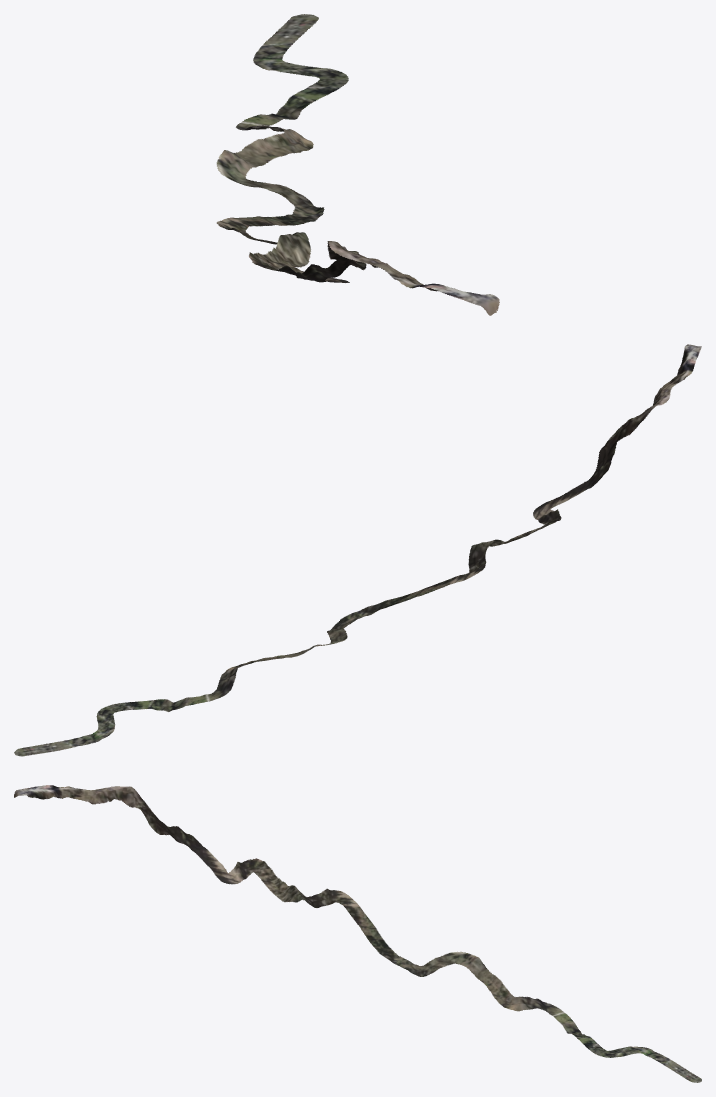
Rendered from corridor-v3-mobile.glb.
The picture shows the model from 3 angles, top to bottom: view 1: azimuth 30°, elevation 25°; view 2: azimuth 150°, elevation 25°; view 3: azimuth 270°, elevation 25°; orthographic projection. The views are drawn at different scales.
Parts seen in each view (by area): view 1: V3 / ruts berms takeoffs / mobile; view 2: V3 / ruts berms takeoffs / mobile; view 3: V3 / ruts berms takeoffs / mobile.
Boxes of the visible parts, left/top/right/bottom form: V3 / ruts berms takeoffs / mobile: left=216, top=14, right=499, bottom=315; V3 / ruts berms takeoffs / mobile: left=14, top=344, right=701, bottom=756; V3 / ruts berms takeoffs / mobile: left=14, top=785, right=701, bottom=1082.
Size of the model in its own units: 649 by 373 by 1388.
1 material, 1 textured.
